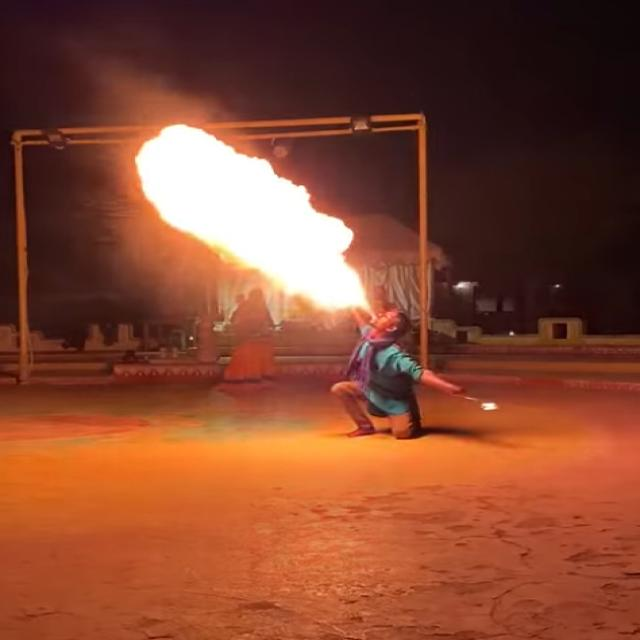fire: (133, 124, 372, 315)
